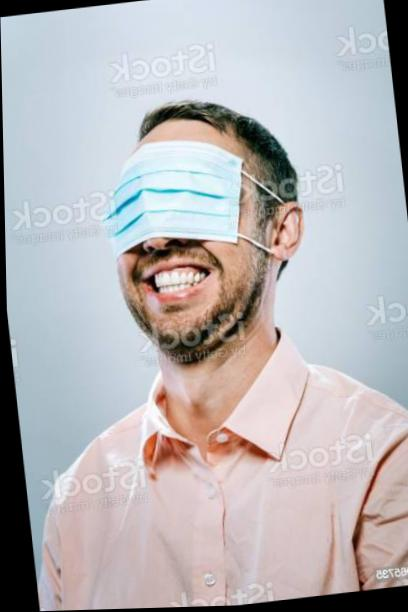WRONG: (107, 175, 266, 373)
